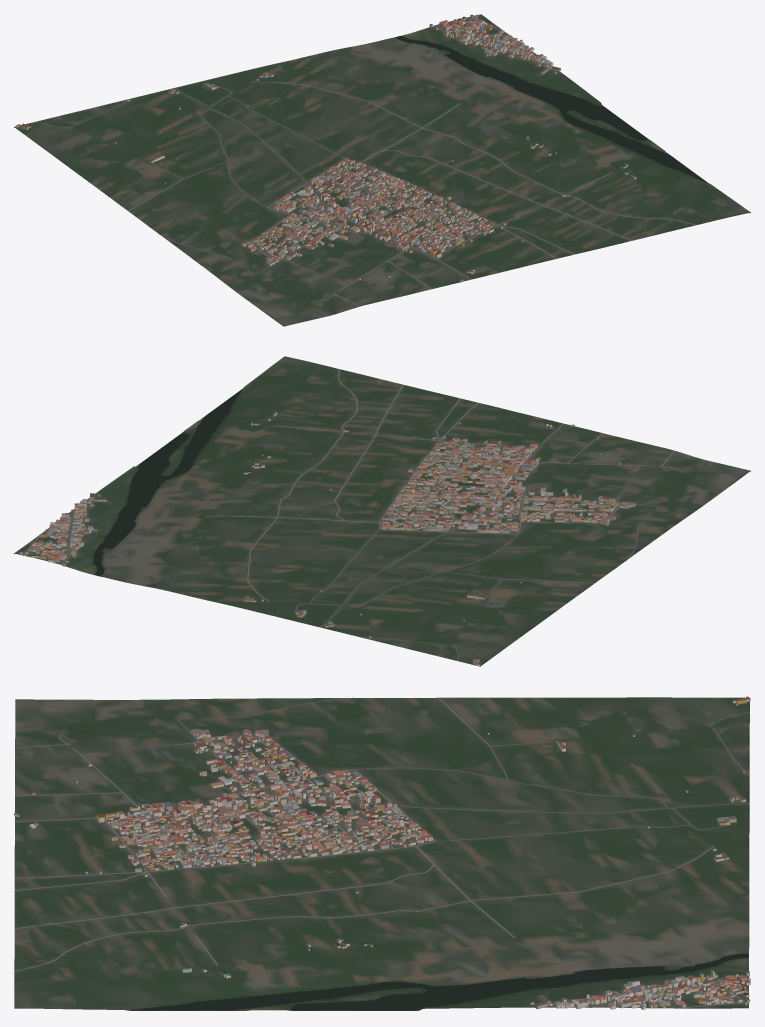
3 renders of one model, top to bottom at view 1: azimuth 30°, elevation 25°; view 2: azimuth 150°, elevation 25°; view 3: azimuth 270°, elevation 25°, orthographic. The views are drawn at different scales.
Visible parts, largest first — view 1: ground, buildings, water, roads; view 2: ground, buildings, roads, water; view 3: ground, buildings, water, roads.
Part boxes in pixels (x1,y1,x2,y2): ground: [14, 14, 750, 326]; buildings: [15, 14, 636, 284]; water: [395, 36, 707, 182]; roads: [36, 15, 696, 306]; ground: [14, 356, 750, 666]; buildings: [19, 411, 635, 665]; roads: [19, 369, 678, 660]; water: [93, 389, 242, 575]; ground: [14, 697, 749, 1010]; buildings: [14, 696, 750, 1009]; water: [129, 953, 748, 1010]; roads: [14, 697, 749, 1008].
Size of the model in its own units: 1408 by 25.28 by 1406.
